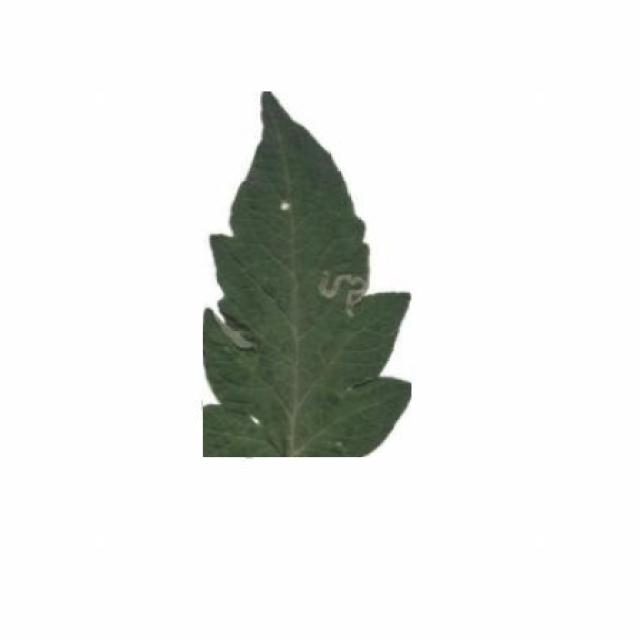Leaf Miner: (203, 92, 411, 457)
